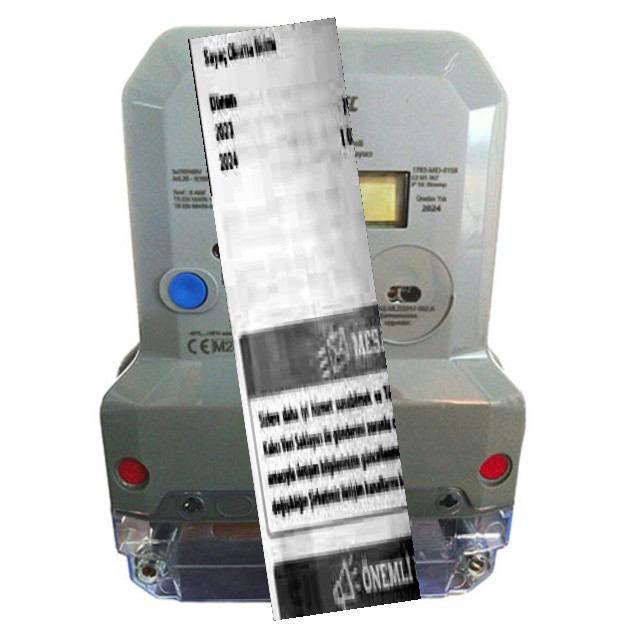electricity-bill: (187, 16, 421, 620)
